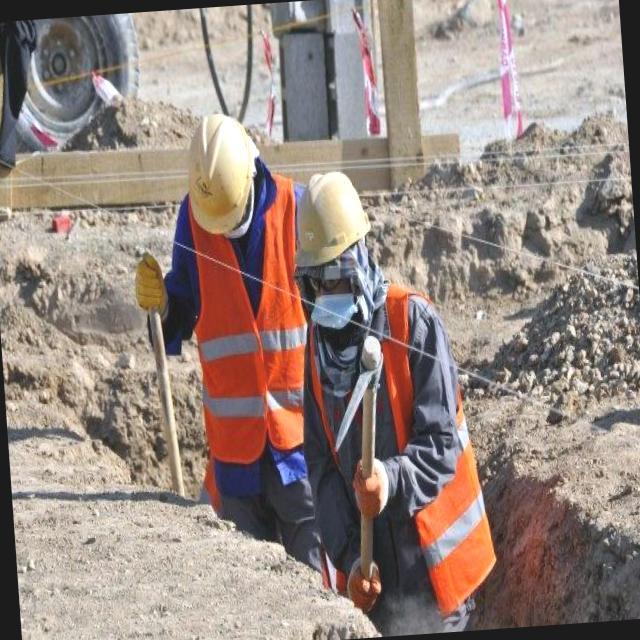helmet: (286, 160, 372, 274), (184, 109, 262, 232)
vest: (358, 285, 499, 619), (186, 211, 312, 475)
